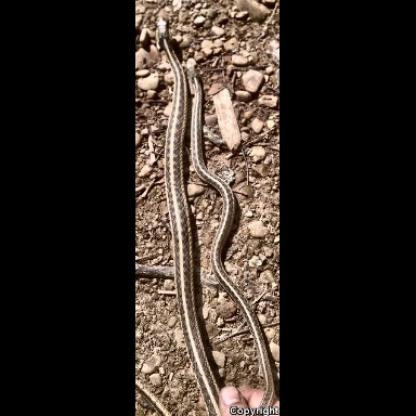Snake: (152, 12, 222, 416)
